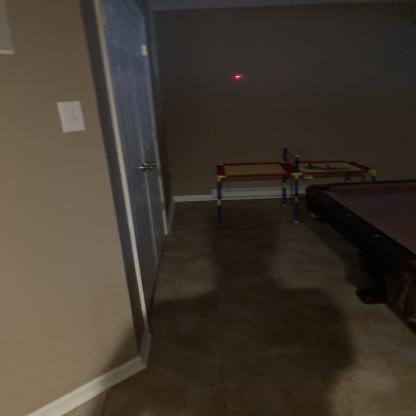target: (233, 73, 244, 83)
